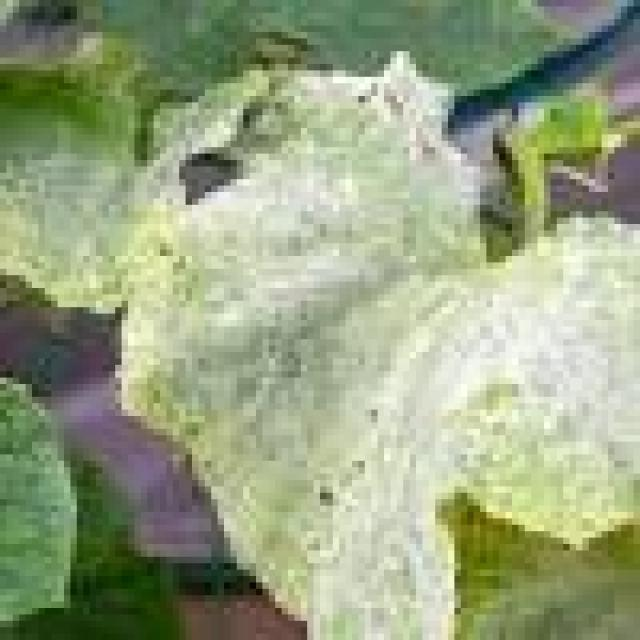powdery-mildew: (243, 126, 588, 585)
